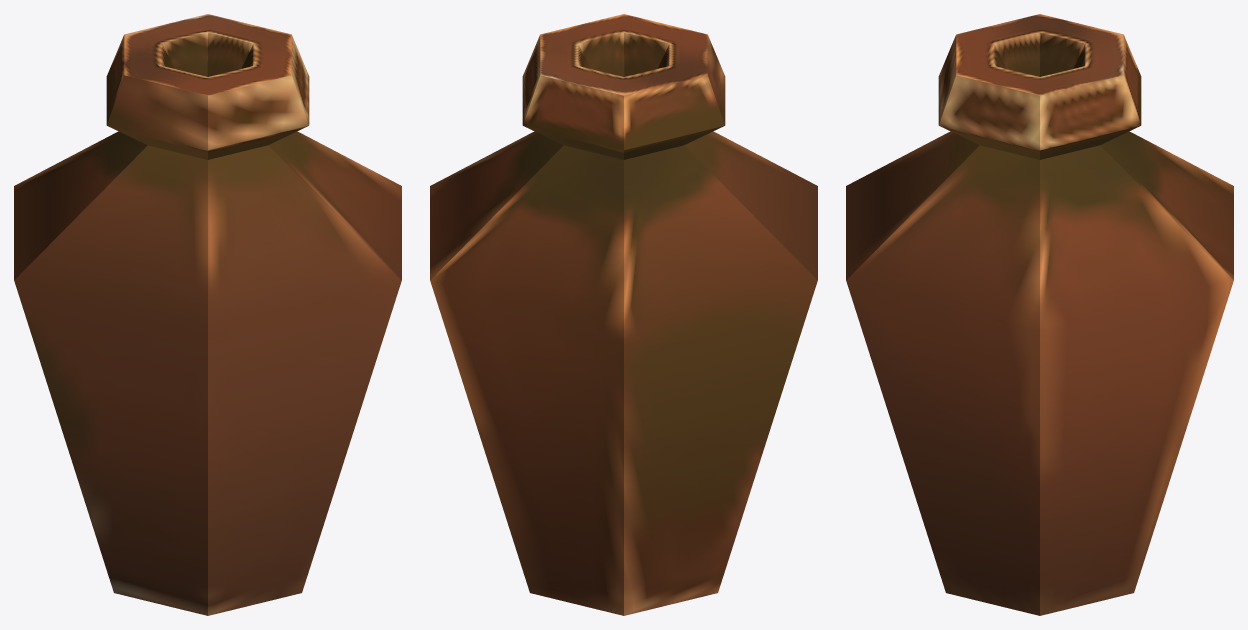
Rendered from Rome_Village_Props_11.FBX.
The picture shows the model from 3 angles, left to right: view 1: azimuth 30°, elevation 25°; view 2: azimuth 150°, elevation 25°; view 3: azimuth 270°, elevation 25°; orthographic projection.
Visible parts, largest first — view 1: Rome_Village_Props_11; view 2: Rome_Village_Props_11; view 3: Rome_Village_Props_11.
Boxes of the visible parts, x1,y1,x2,y2 form: Rome_Village_Props_11: (14, 14, 401, 615); Rome_Village_Props_11: (430, 14, 817, 615); Rome_Village_Props_11: (846, 14, 1233, 615).
Size of the model in its own units: 46.8 by 59.43 by 40.53.
